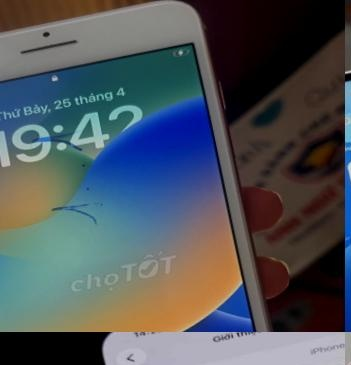scratch: (35, 38, 57, 51)
screen_defect: (45, 193, 111, 235), (25, 124, 92, 165), (79, 181, 95, 193), (73, 160, 91, 169)
